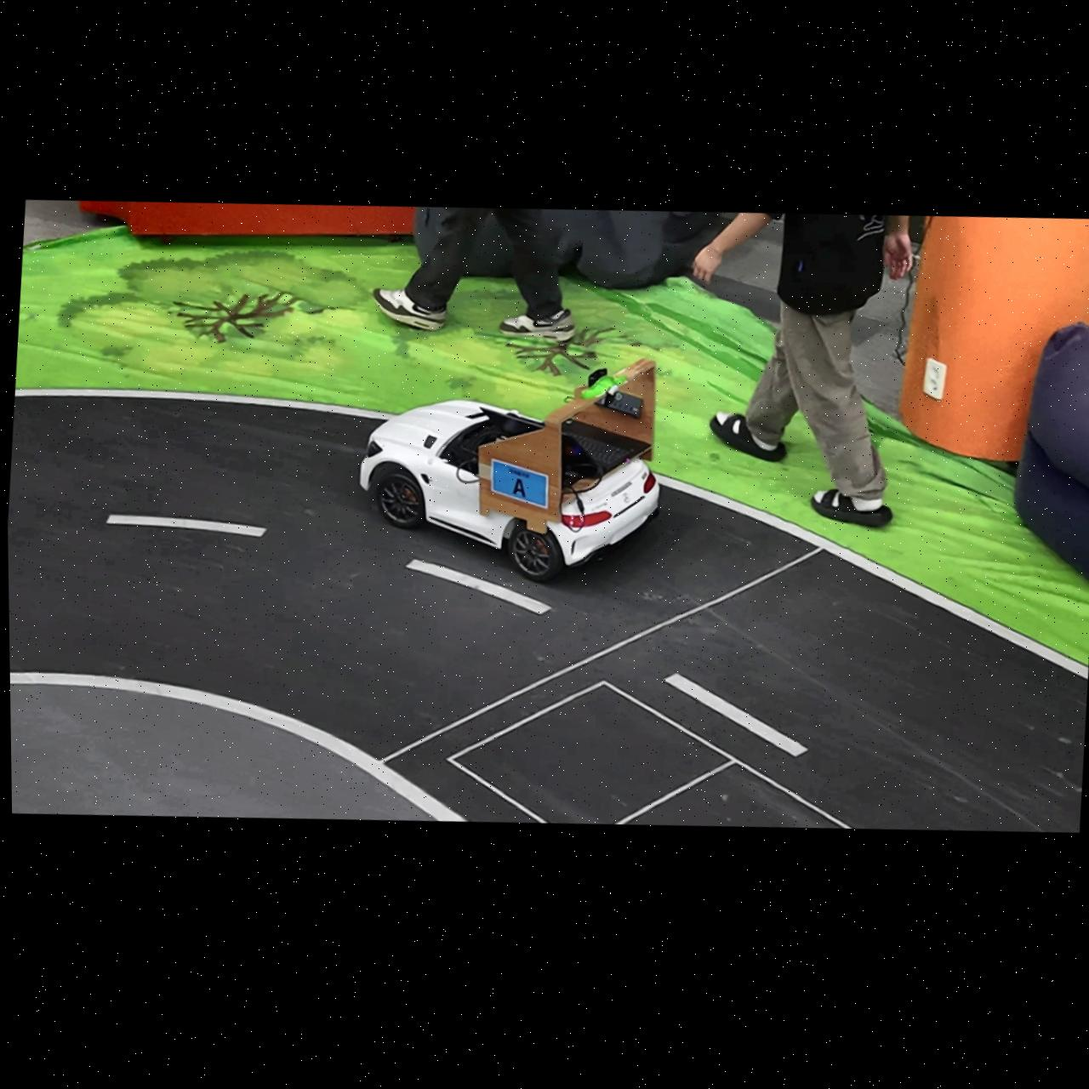broken_line: (666, 674, 807, 757), (406, 559, 551, 614), (106, 515, 266, 537)
